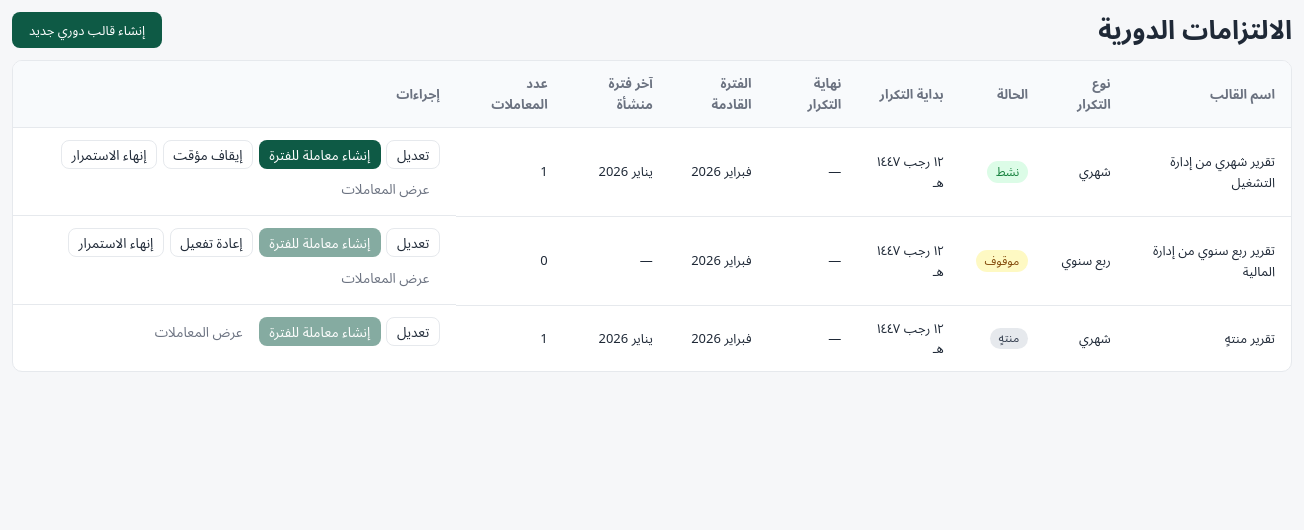
Test: RecurringTemplatesPage › shows linked transactions when "عرض المعاملات" is clicked
Expected: the text "تقرير شهري من إدارة التشغيل" is shown, [1127, 127, 1291, 216]
Click the button "عرض المعاملات" in the row of "نشط" at (385, 189), box [331, 174, 440, 203]
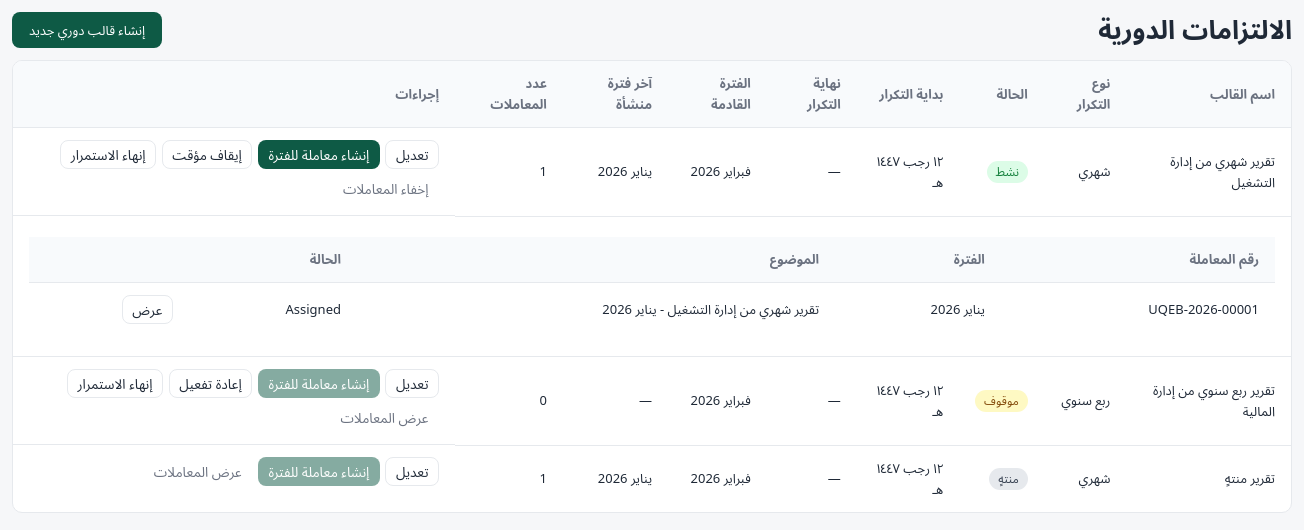
Expected: the text "UQEB-2026-00001" is shown, [1001, 282, 1275, 336]
